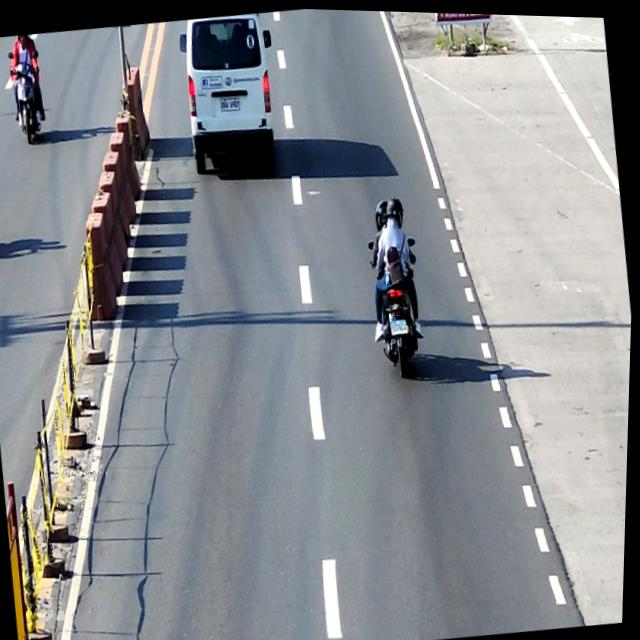Car: (173, 8, 287, 176)
License-Plate: (219, 94, 241, 111), (391, 317, 409, 333)
Motorcycle: (364, 225, 434, 378), (5, 47, 50, 146)
